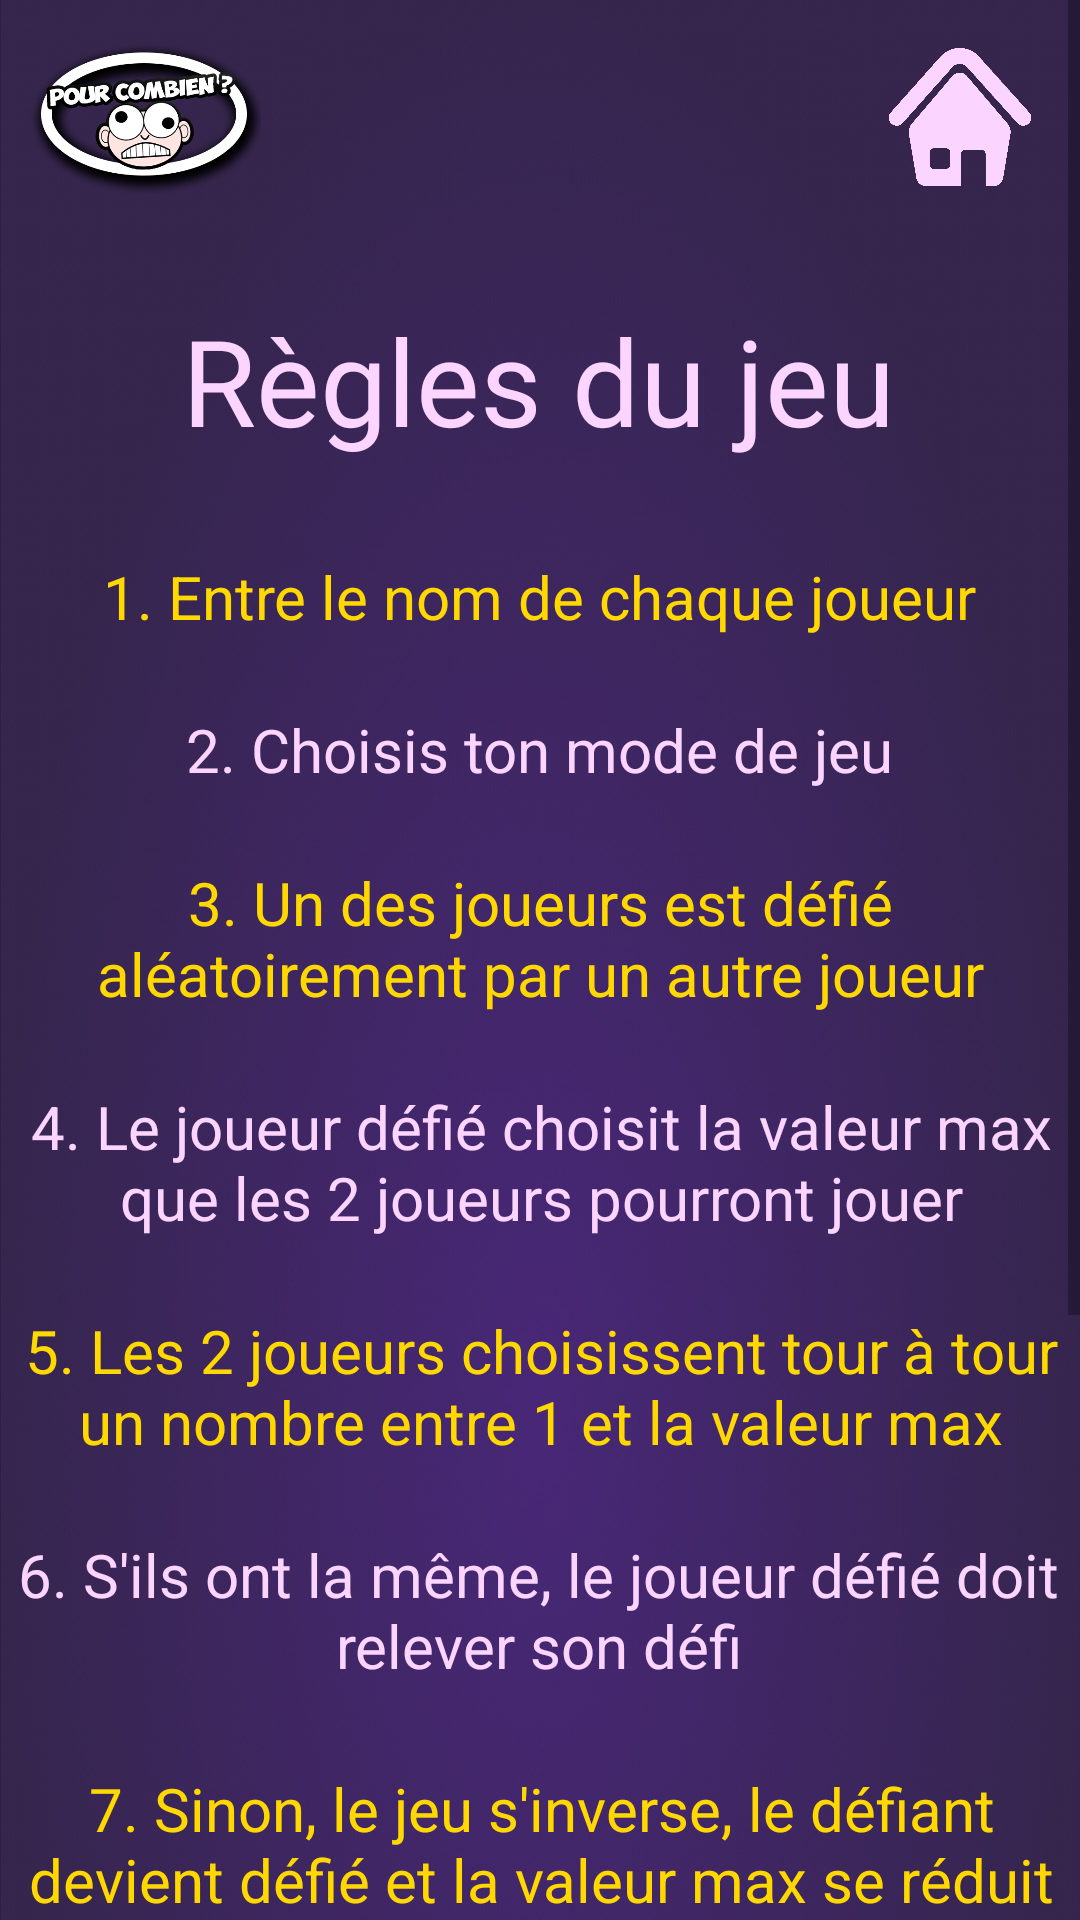

Named icons in this screenshot (1080×1920) and their bounding boxes, bbox=(x1, y1, x2, y2):
Bouton pour retourner à la page d'accueil: bbox=(889, 48, 1031, 186)
